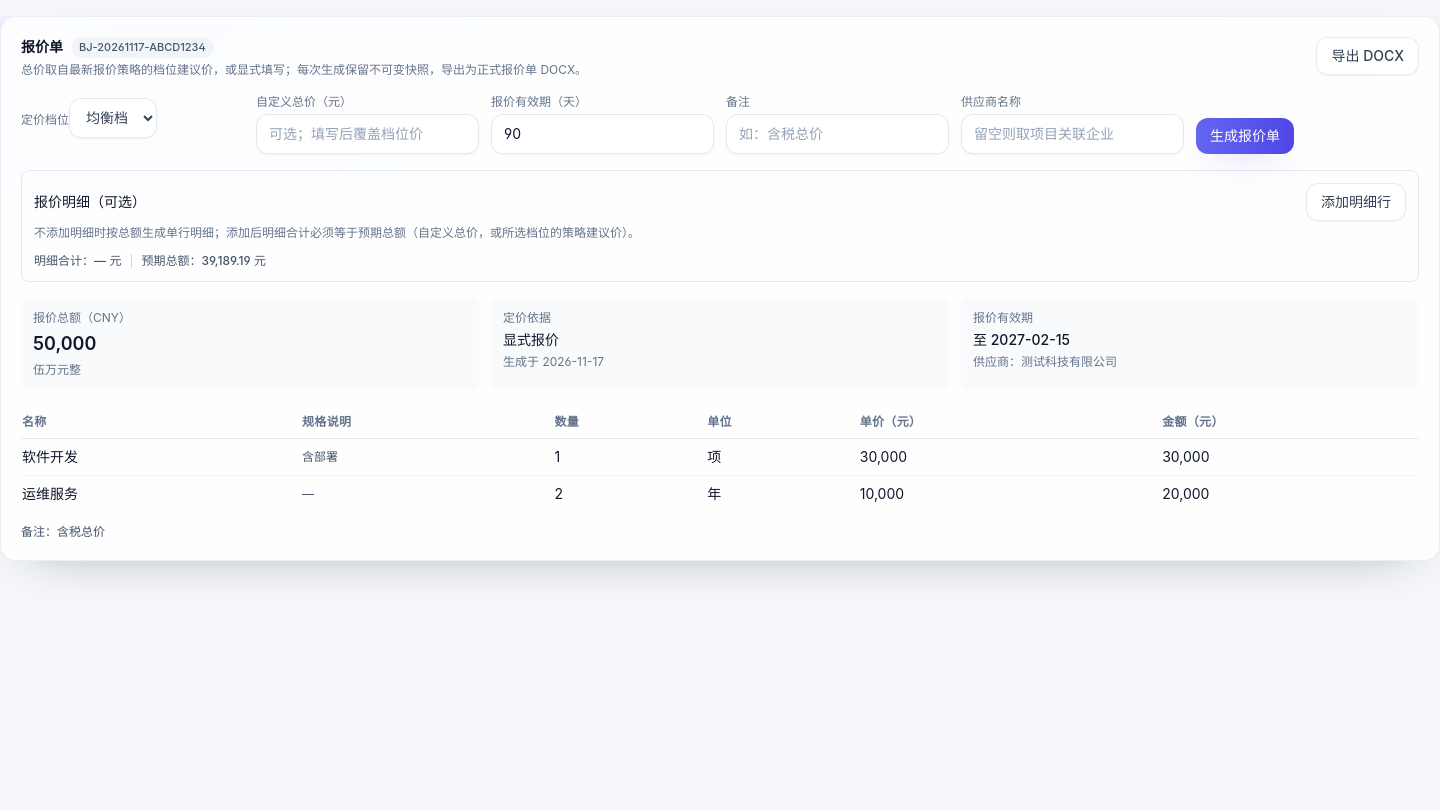
Test: QuoteSheetPanel › 编辑明细行合计一致时随 body 提交字符串数量与单价
Expected: the text "BJ-20261117-ABCD1234" is shown, [71,37,214,58]
Type "50000" into the field with placeholder "可选；填写后覆盖档位价" at (368, 134), box [256,114,479,154]
Click the button "添加明细行" at (1356, 202), box [1306,182,1406,220]
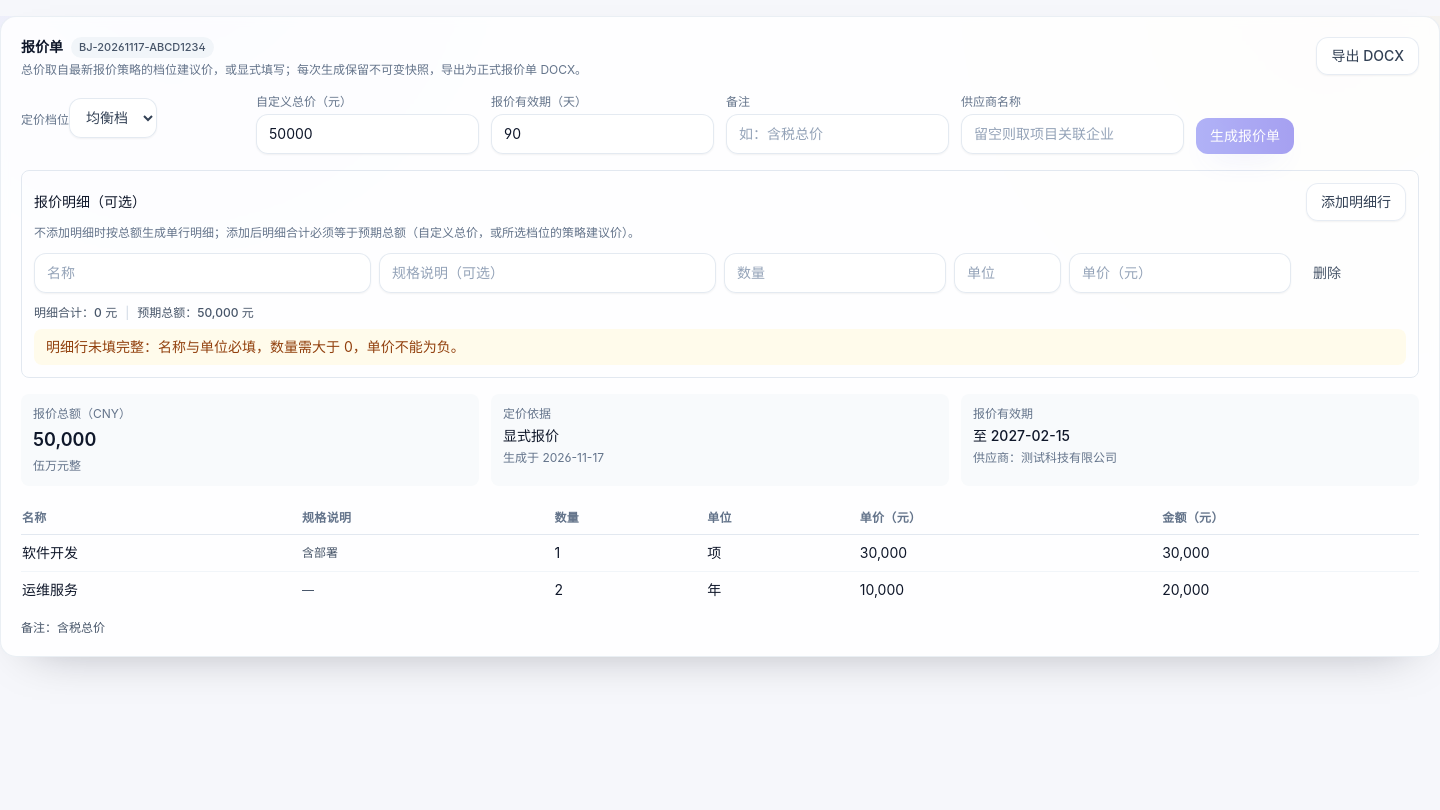
Type "软件开发" into the field named "明细第1行名称" at (202, 272), box [34,252,371,292]
Type "含部署" into the field named "明细第1行规格" at (548, 272), box [379,252,716,292]
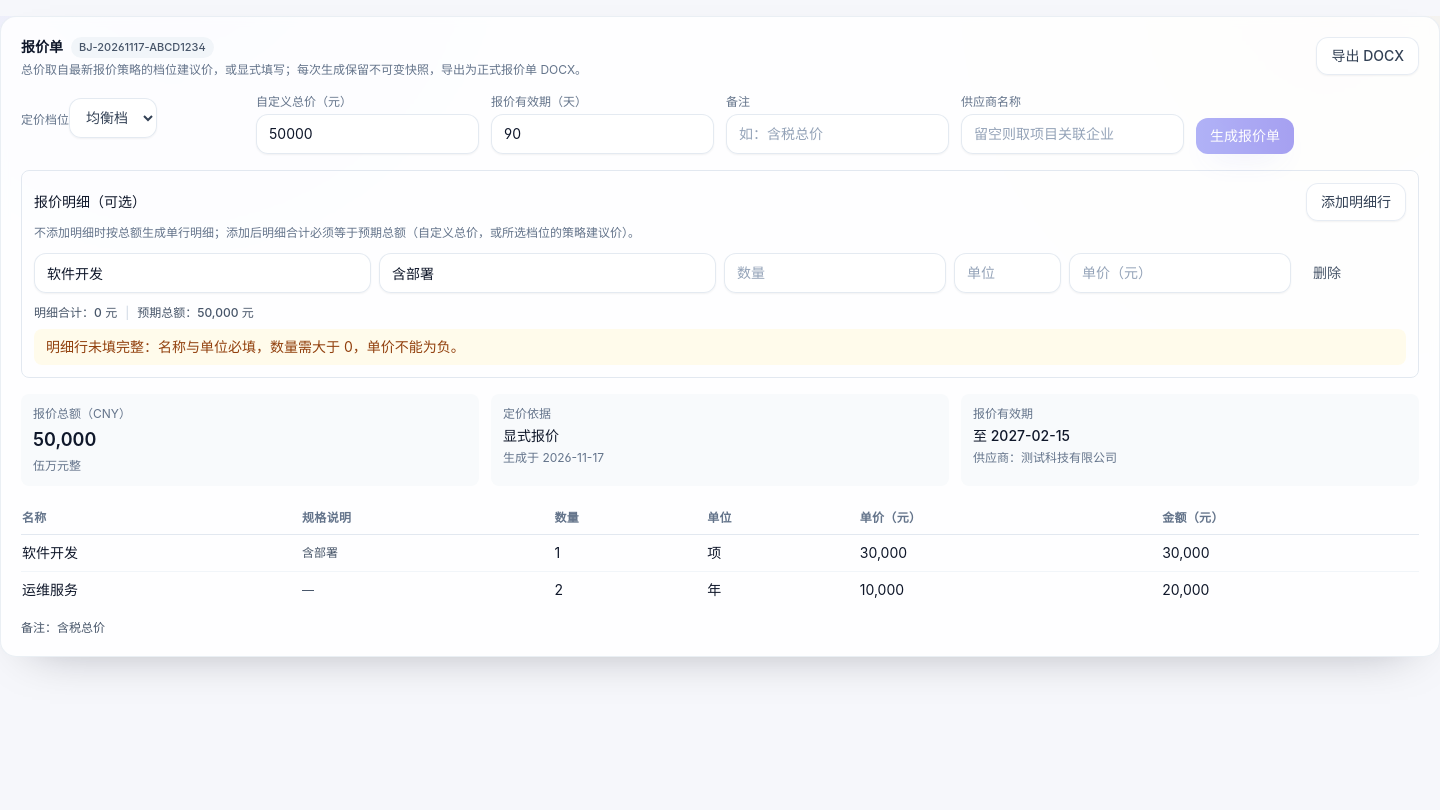
Type "2" into the field named "明细第1行数量" at (835, 272), box [724,252,946,292]
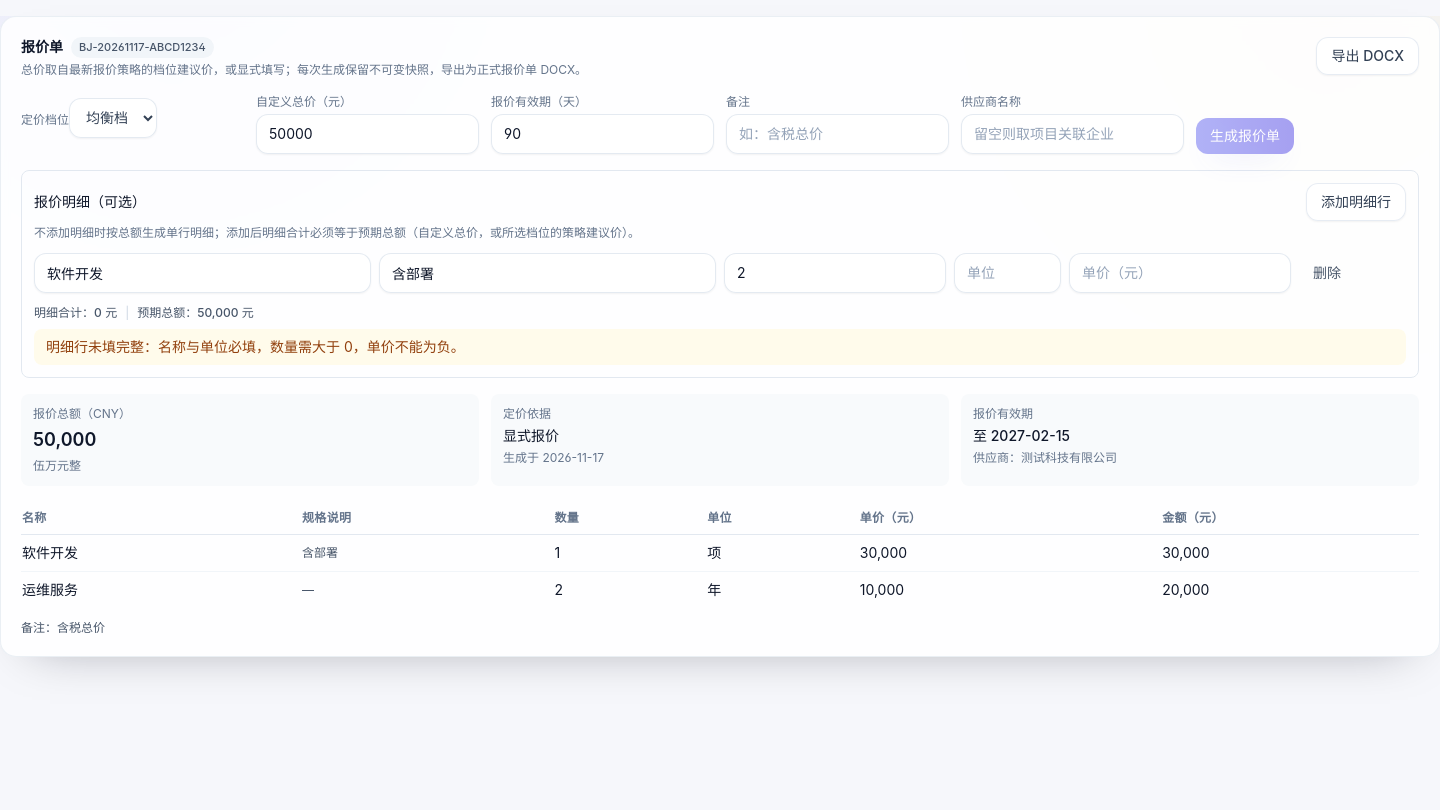
Type "项" into the field named "明细第1行单位" at (1008, 272), box [954,252,1061,292]
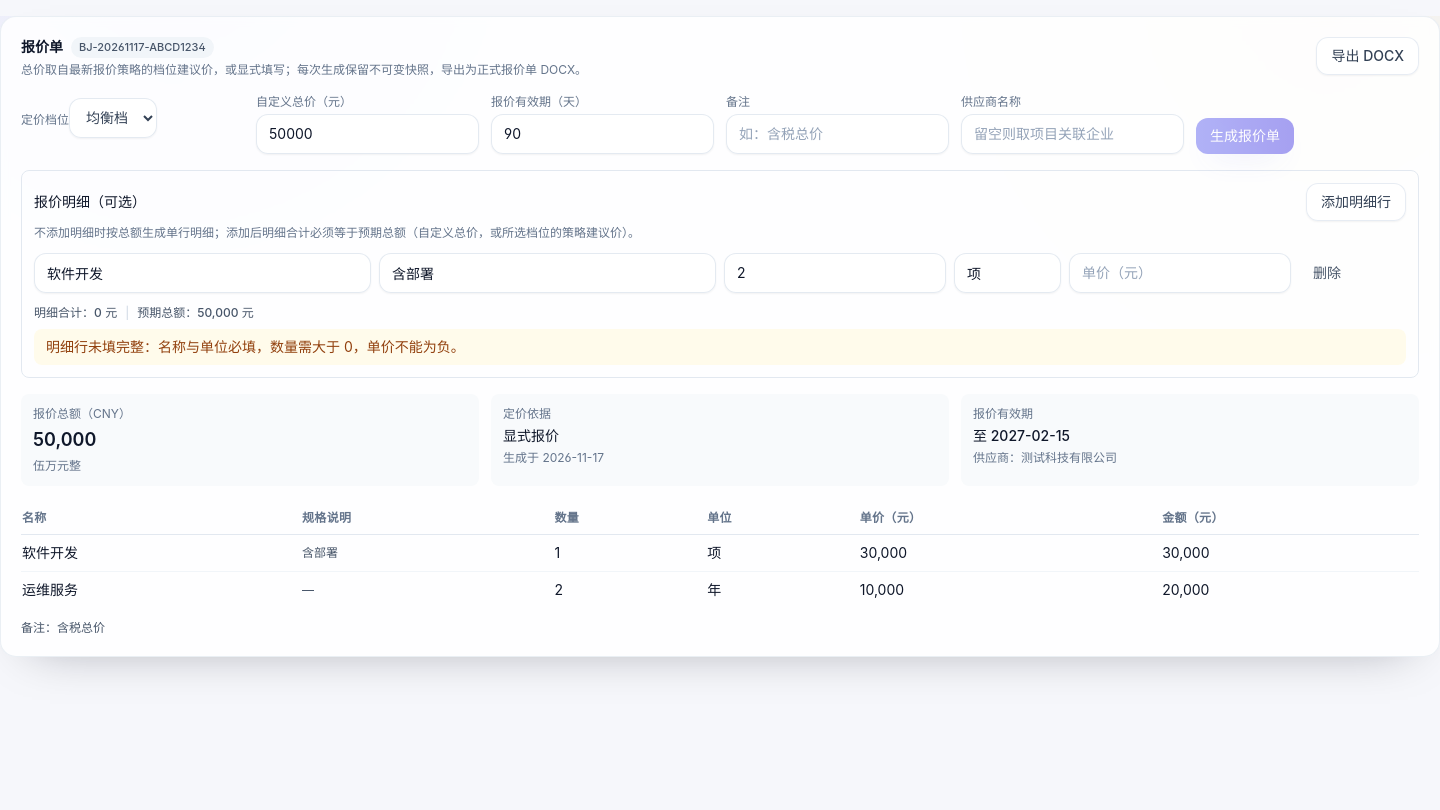
Type "25000" into the field named "明细第1行单价" at (1180, 272), box [1069,252,1291,292]
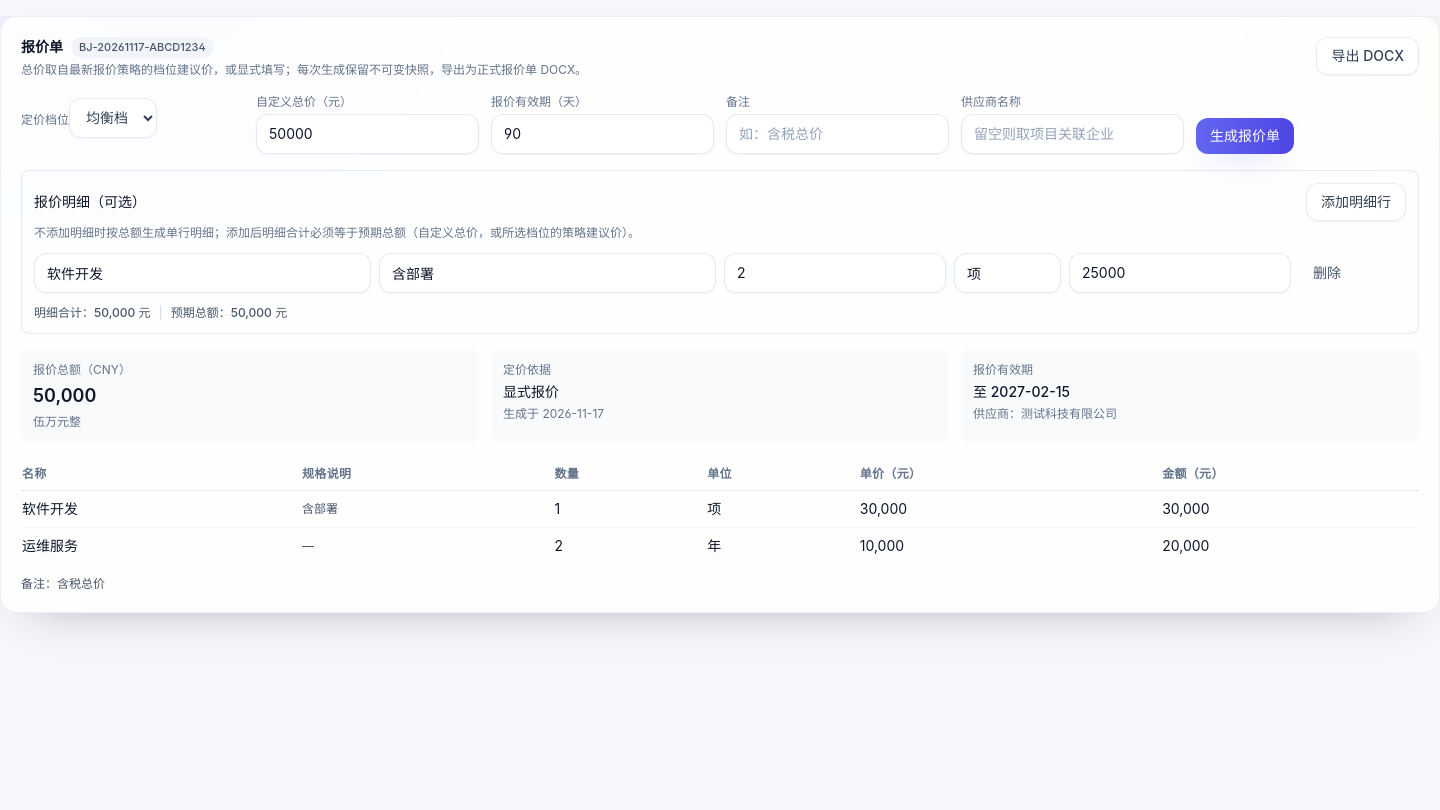
Click the button "生成报价单" at (1245, 136), box [1196,118,1294,154]
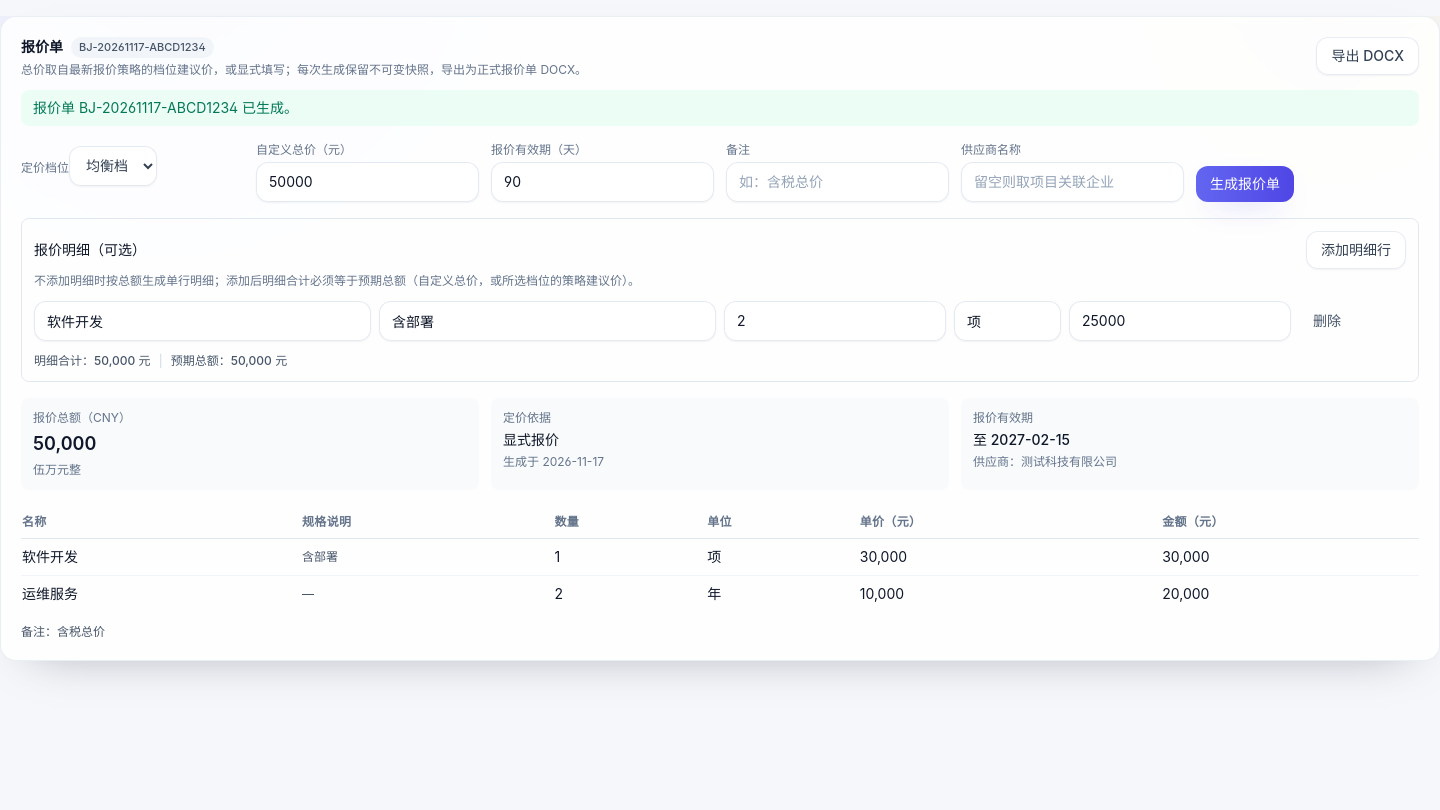
Now the text "报价单 BJ-20261117-ABCD1234 已生成。" is shown, box [21,90,1419,126]
